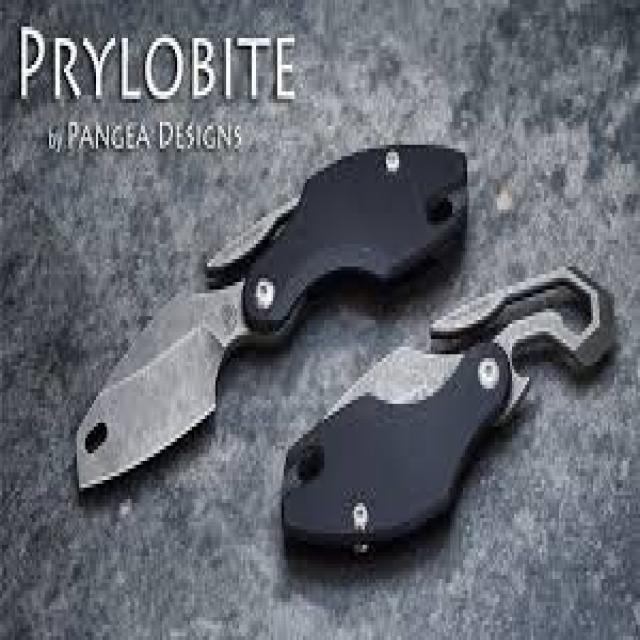knives: (44, 192, 285, 526)
